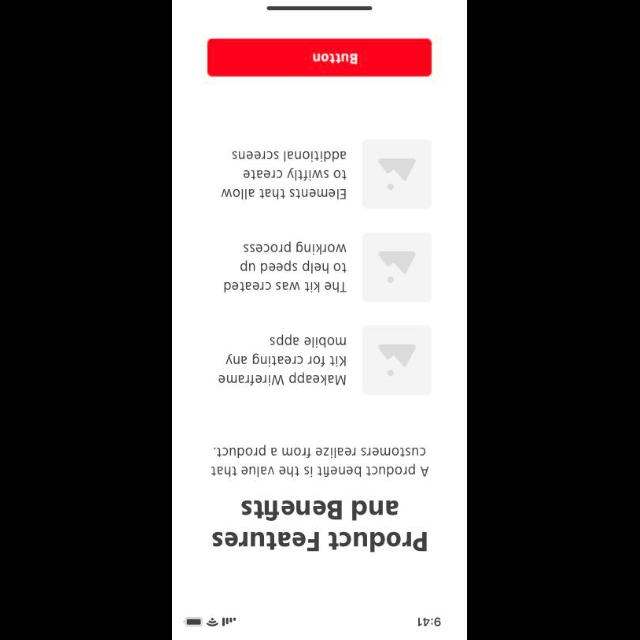image: (362, 325, 432, 395), (362, 232, 432, 302), (362, 140, 432, 210)
text: (212, 499, 428, 551), (210, 444, 430, 476), (218, 334, 348, 388), (225, 240, 348, 292), (221, 150, 347, 200)
textbutton: (208, 38, 432, 76)
uppertaskbar: (182, 616, 442, 626)
